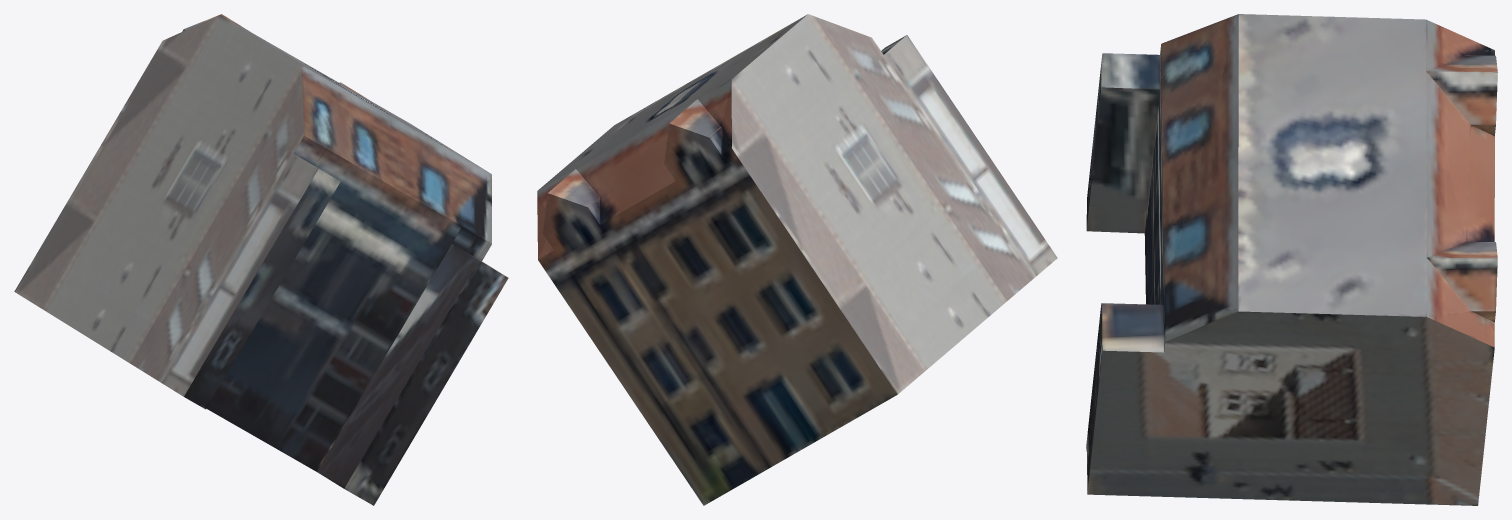
The picture shows the model from 3 angles, left to right: view 1: azimuth 30°, elevation 25°; view 2: azimuth 150°, elevation 25°; view 3: azimuth 270°, elevation 25°; orthographic projection. The views are drawn at different scales.
Visible parts, largest first — view 1: BAG_0599100000670815 (×4); view 2: BAG_0599100000670815 (×4); view 3: BAG_0599100000670815 (×4).
Part boxes in pixels (x1=…): BAG_0599100000670815 (×4): x1=14, y1=14, x2=508, y2=505; BAG_0599100000670815 (×4): x1=537, y1=14, x2=1057, y2=505; BAG_0599100000670815 (×4): x1=1086, y1=14, x2=1497, y2=505.
Bounding box in the file's own units: 16.55 × 17.15 × 13.04.
Materials: 5 (5 with a texture image).
